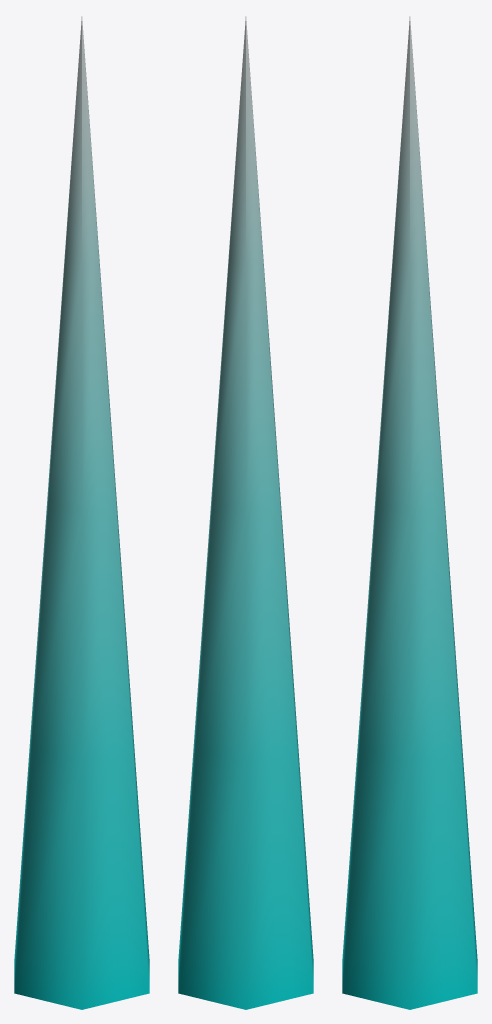
Rendered from Grass.FBX.
3 renders of one model, left to right at view 1: azimuth 90°, elevation 25°; view 2: azimuth 210°, elevation 25°; view 3: azimuth 270°, elevation 25°, orthographic.
Visible parts, largest first — view 1: Cone001; view 2: Cone001; view 3: Cone001.
Part boxes in pixels (box(x1,y1,x2,y2)): Cone001: box(14, 16, 149, 1009); Cone001: box(178, 16, 313, 1009); Cone001: box(342, 16, 477, 1009).
Bounding box in the file's own units: 7.35 × 50 × 6.37.
